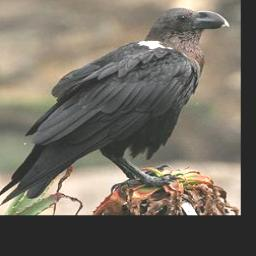Crow: (0, 6, 226, 205)
